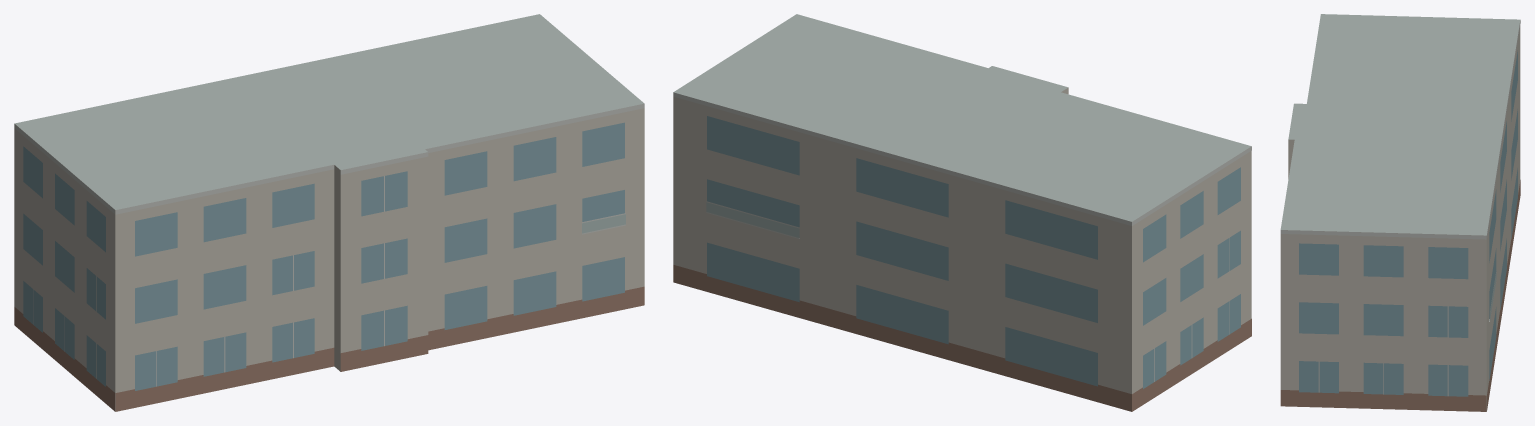
File: survey-upis-32910959.glb
3 renders of one model, left to right at view 1: azimuth 30°, elevation 25°; view 2: azimuth 150°, elevation 25°; view 3: azimuth 270°, elevation 25°, orthographic. The views are drawn at different scales.
Visible parts, largest first — view 1: survey-upis-32910959.tmp; view 2: survey-upis-32910959.tmp; view 3: survey-upis-32910959.tmp.
Part boxes in pixels (x1,y1,x2,y2): survey-upis-32910959.tmp: (14, 14, 644, 411); survey-upis-32910959.tmp: (673, 14, 1251, 411); survey-upis-32910959.tmp: (1280, 14, 1520, 411).
Size of the model in its own units: 29.11 by 10.8 by 13.32.
